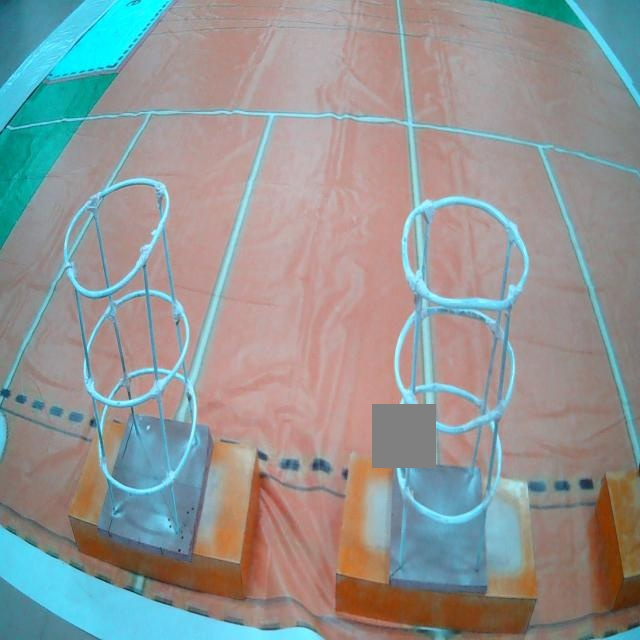silo: (58, 173, 219, 575), (385, 179, 538, 588)
